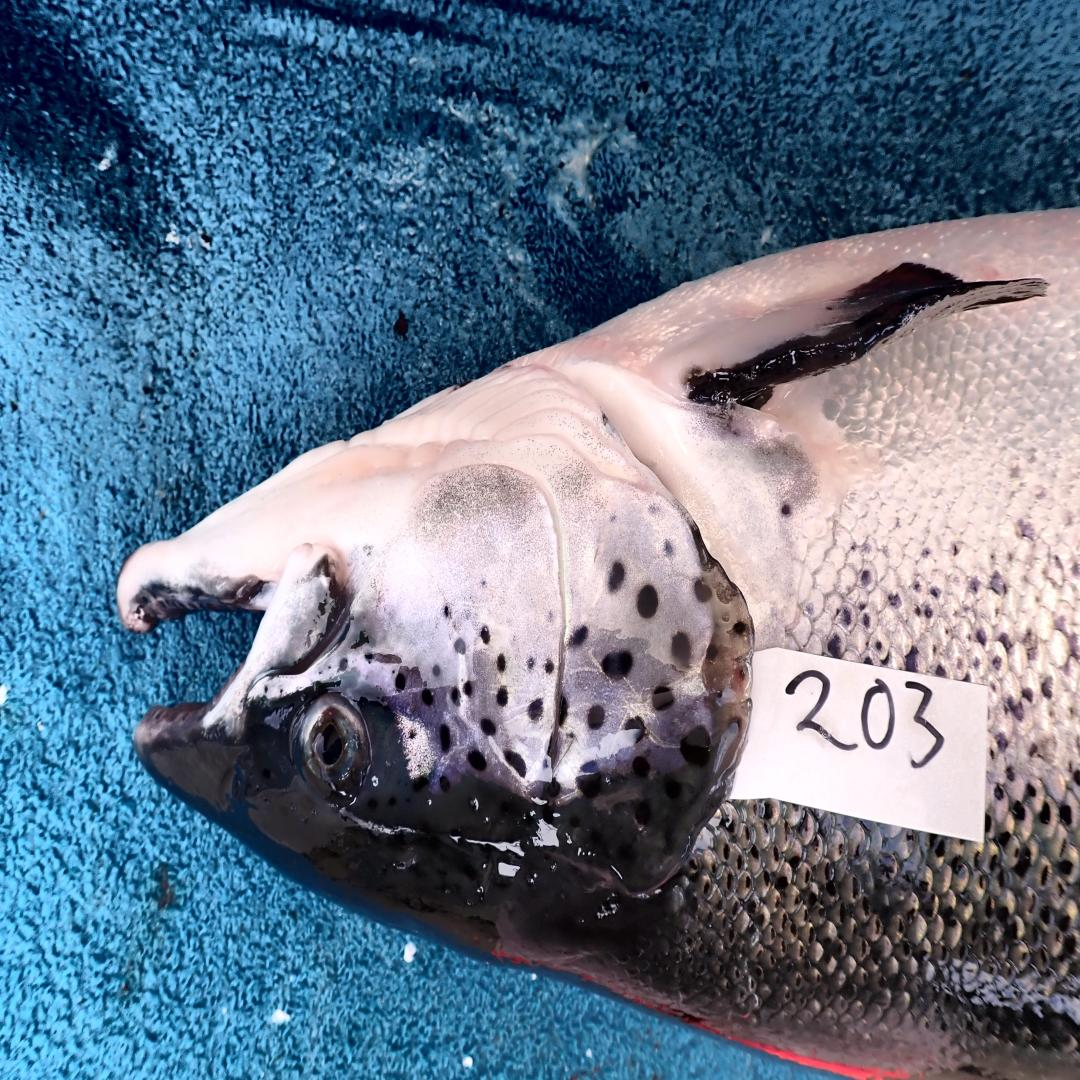spot: (679, 726, 711, 768), (601, 650, 633, 681), (576, 762, 601, 799), (671, 633, 692, 669), (637, 585, 658, 619), (624, 716, 647, 746), (652, 686, 675, 712), (504, 751, 527, 776), (692, 578, 714, 604), (608, 560, 624, 591), (468, 749, 487, 773), (570, 624, 589, 647), (542, 779, 561, 802), (527, 698, 544, 723), (589, 703, 605, 728), (440, 723, 452, 754), (633, 757, 650, 776), (559, 695, 568, 727), (412, 775, 429, 791), (395, 671, 407, 693), (663, 539, 675, 561), (481, 717, 496, 734), (706, 644, 720, 662), (729, 717, 743, 735), (496, 686, 508, 706), (733, 620, 748, 636), (544, 658, 556, 676), (454, 638, 466, 655), (421, 689, 432, 706), (439, 776, 449, 793), (498, 652, 506, 672), (451, 686, 460, 703), (431, 662, 441, 677), (526, 655, 535, 671), (481, 627, 489, 644), (464, 681, 472, 698), (407, 727, 417, 740), (545, 739, 552, 755), (444, 605, 450, 617), (739, 670, 744, 682), (717, 690, 723, 698)
